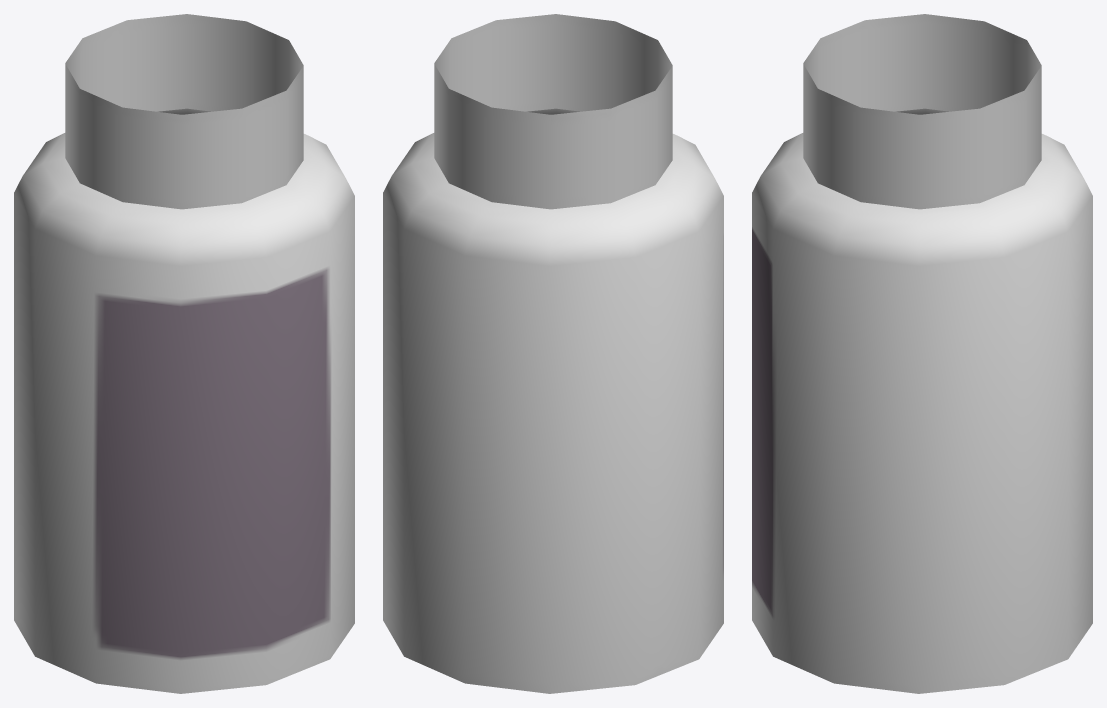
The model's file is PillBottle_2.fbx.
3 renders of one model, left to right at view 1: azimuth 30°, elevation 25°; view 2: azimuth 150°, elevation 25°; view 3: azimuth 270°, elevation 25°, orthographic.
Parts seen in each view (by area): view 1: PillBottle_2; view 2: PillBottle_2; view 3: PillBottle_2.
Boxes of the visible parts, box(x1,y1,x2,y2) form: PillBottle_2: box(14, 14, 354, 693); PillBottle_2: box(383, 14, 723, 693); PillBottle_2: box(752, 14, 1092, 693).
Bounding box in the file's own units: 0.046 × 0.083 × 0.046.
